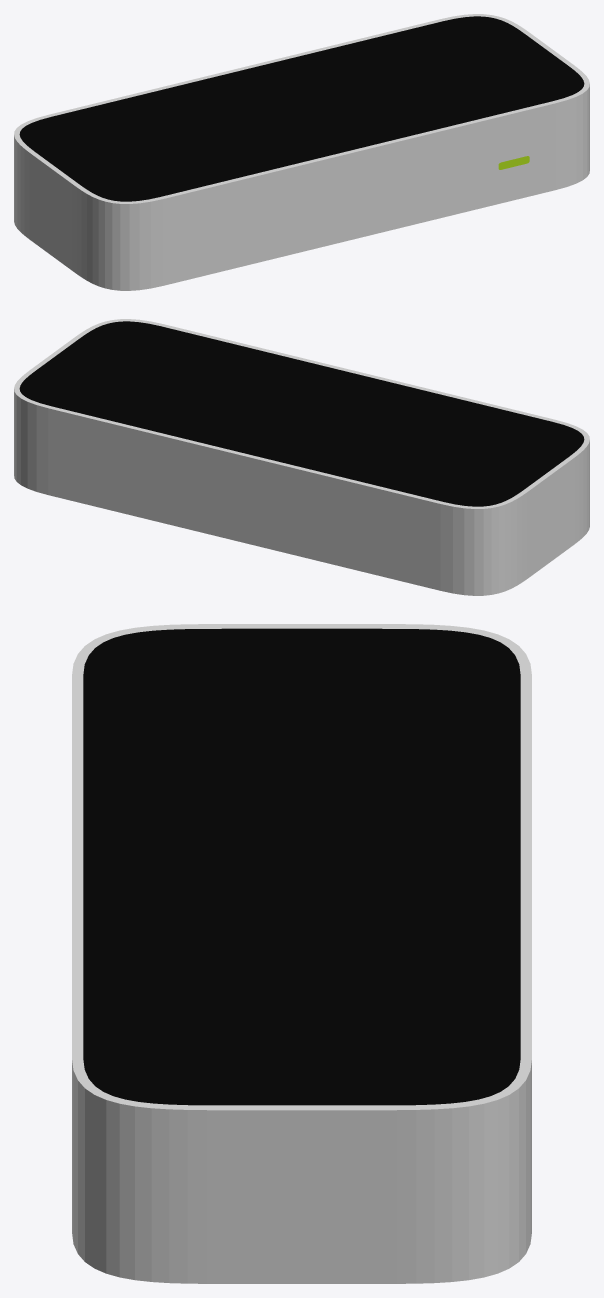
The model's file is leap_motion_1_0.obj.
3 renders of one model, top to bottom at view 1: azimuth 30°, elevation 25°; view 2: azimuth 150°, elevation 25°; view 3: azimuth 270°, elevation 25°, orthographic. The views are drawn at different scales.
Bounding box in the file's own units: 0.0762 × 0.0127 × 0.0305.
Materials: 1 (1 with a texture image).
